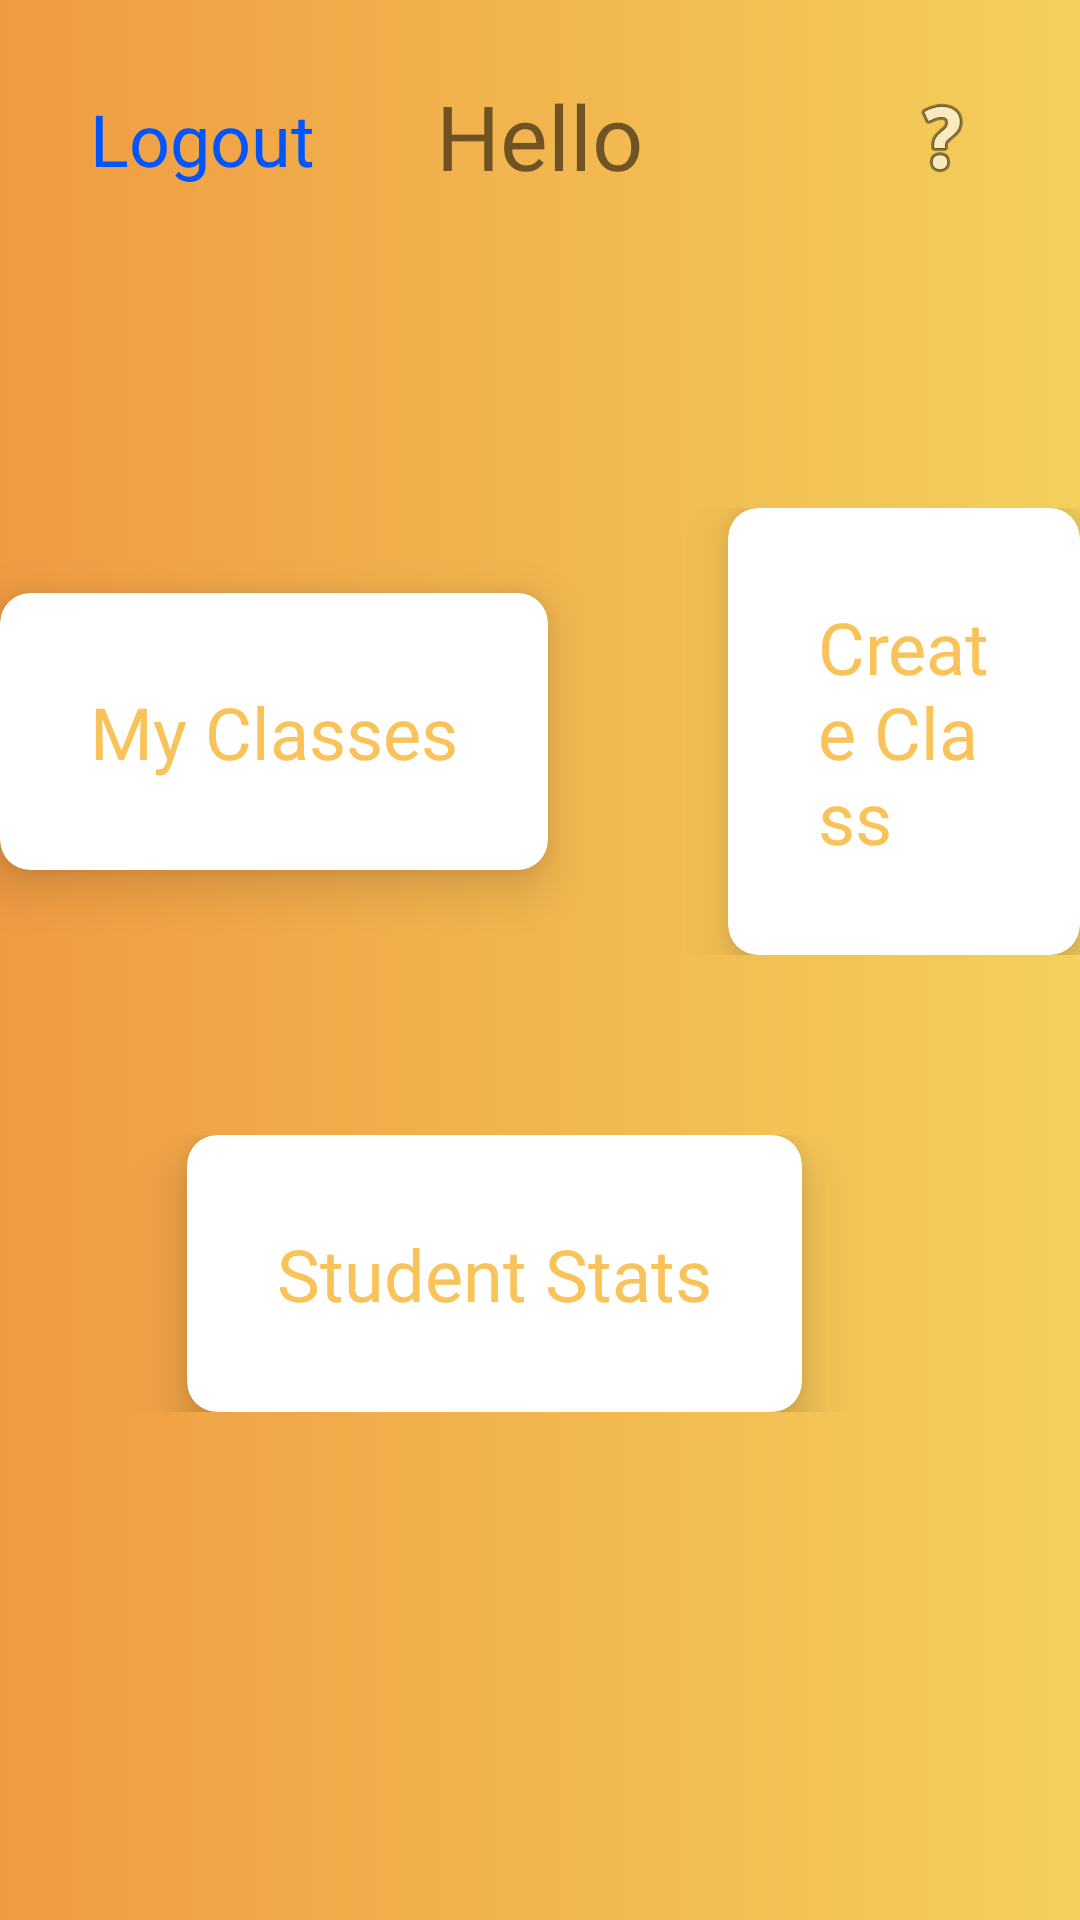

Icons on this 1080px x 1920px Android screen, each with the point to tap as [x,y]:
Help: [942,138]
